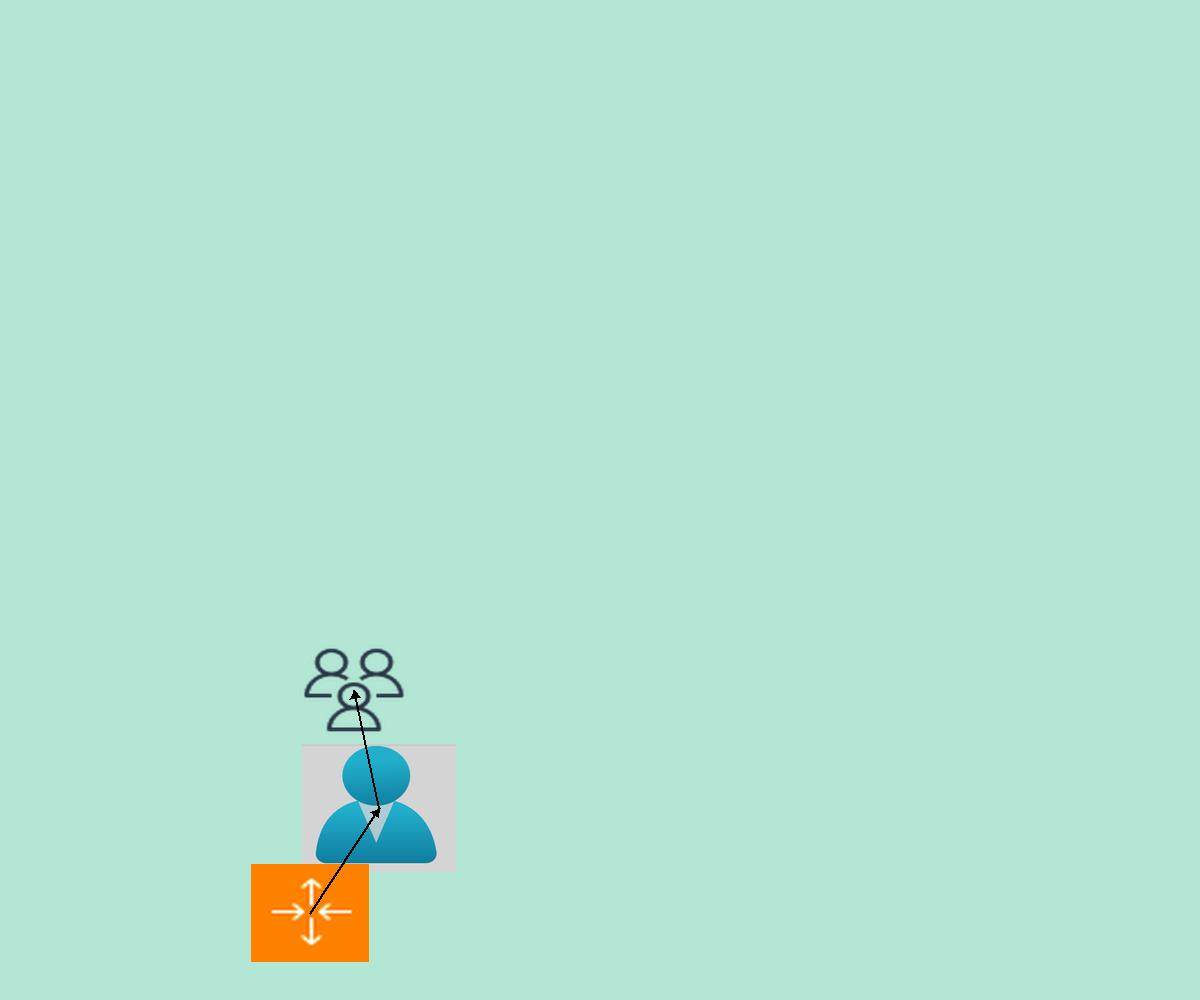AWS-Res_Users: (300, 645, 408, 735)
AWS-Scaling-group: (251, 864, 369, 962)
Azure_users: (302, 744, 456, 872)
